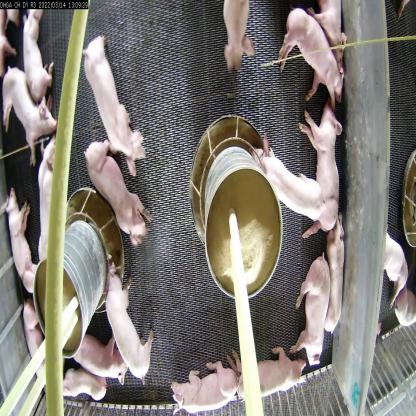Pig: (79, 30, 147, 170), (86, 126, 151, 236), (272, 4, 338, 106), (303, 107, 345, 249), (108, 249, 150, 386), (297, 254, 334, 382), (254, 151, 320, 219), (34, 140, 70, 264), (3, 66, 50, 160), (240, 338, 305, 402), (212, 0, 263, 78), (177, 357, 236, 415), (7, 190, 32, 308), (327, 224, 352, 340), (376, 234, 410, 318), (74, 327, 121, 386), (23, 11, 53, 95), (24, 300, 51, 387), (56, 370, 100, 415)
